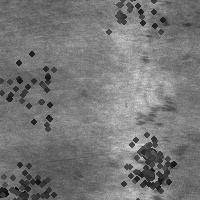rolled-in_scale: (0, 42, 70, 140), (130, 96, 186, 200), (113, 136, 185, 200), (87, 0, 181, 49), (0, 145, 66, 200), (138, 10, 189, 65), (125, 127, 169, 171)
